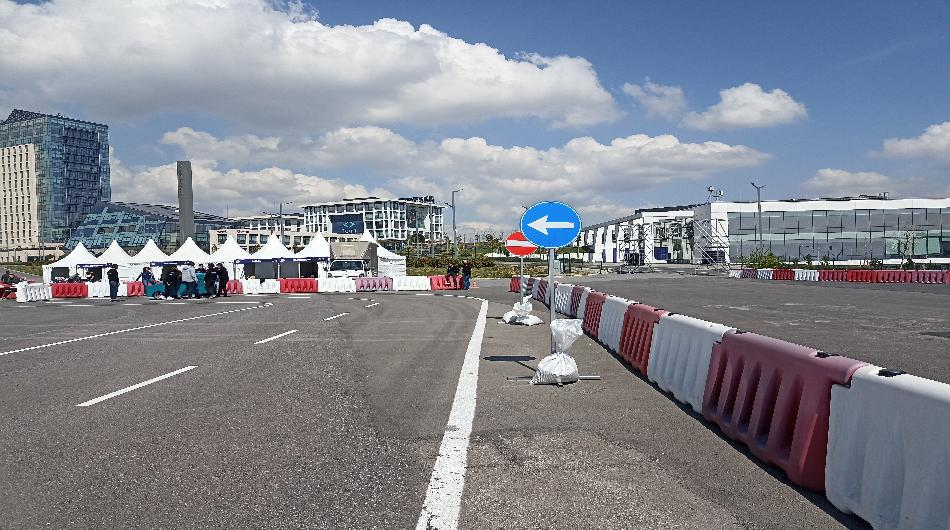girilmez: (522, 201, 582, 252)
sola_mecburi_1: (504, 228, 537, 258)
